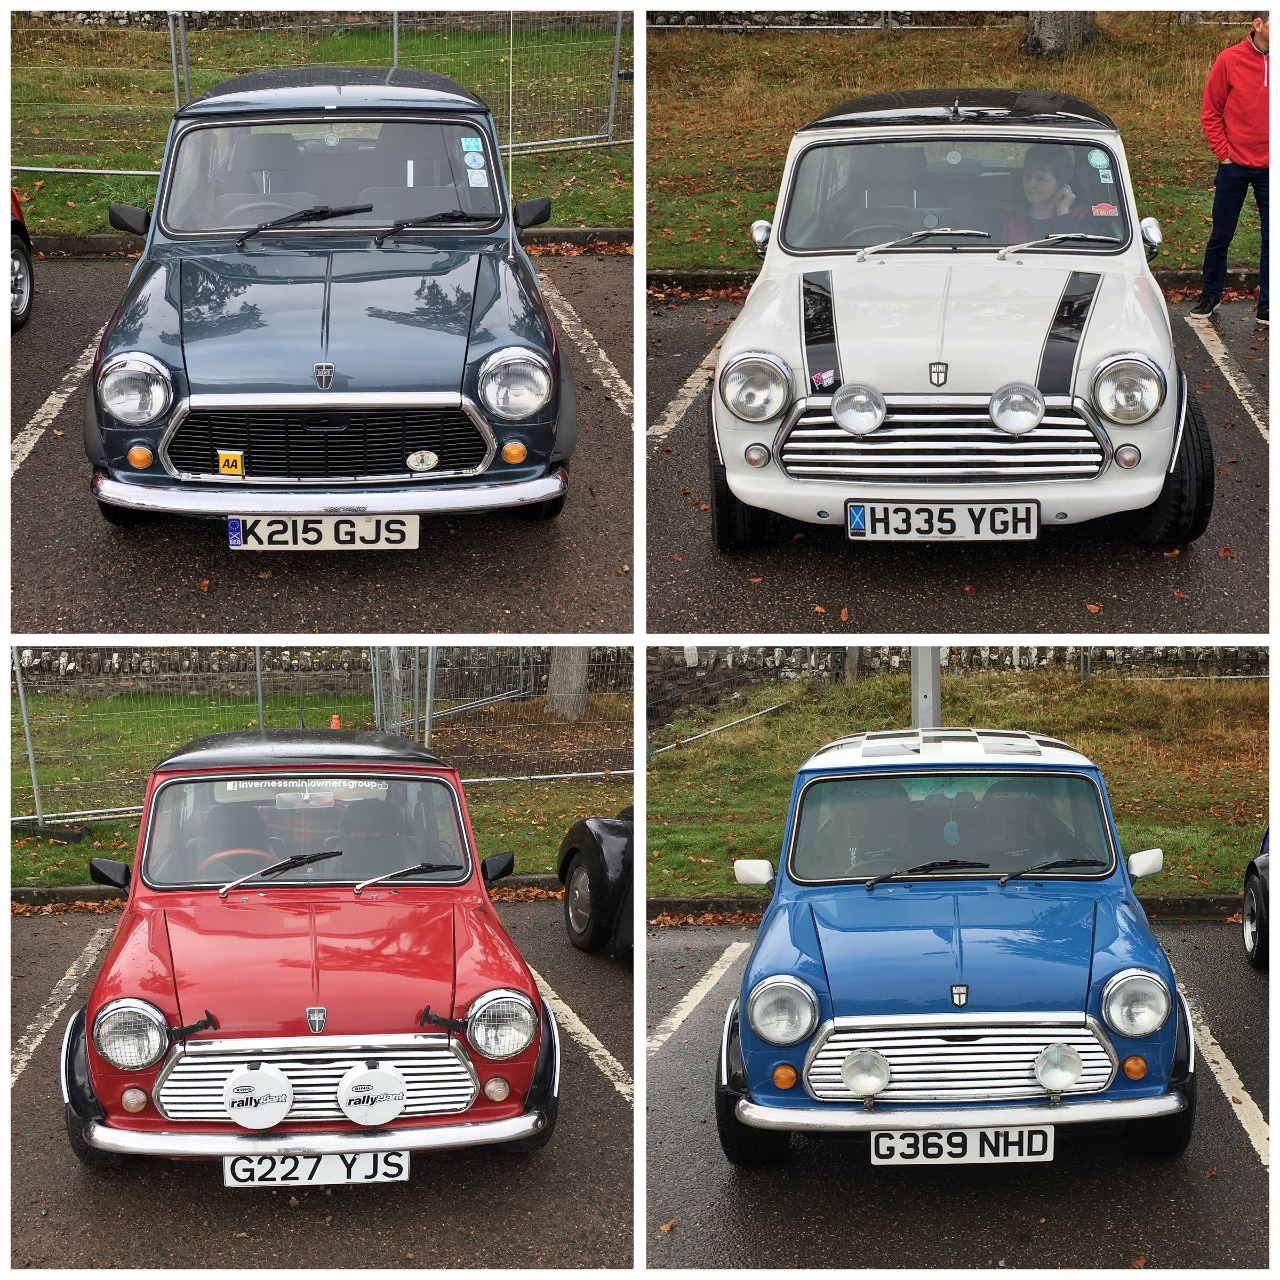LP: (836, 493, 1051, 551), (216, 503, 427, 558), (859, 1119, 1065, 1172), (217, 1143, 420, 1191)
